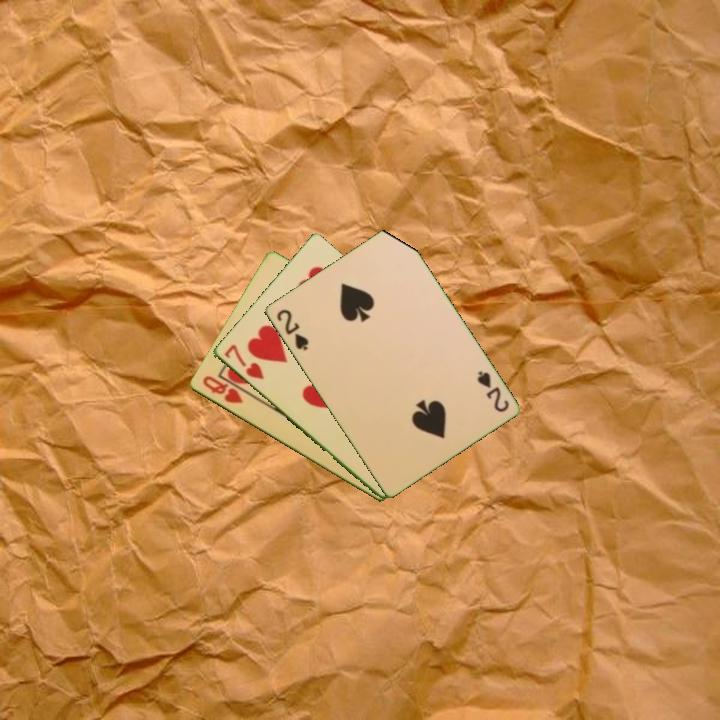2s: (473, 367, 512, 415), (273, 305, 311, 353)
7h: (220, 340, 267, 383)
Qh: (199, 372, 246, 407)
